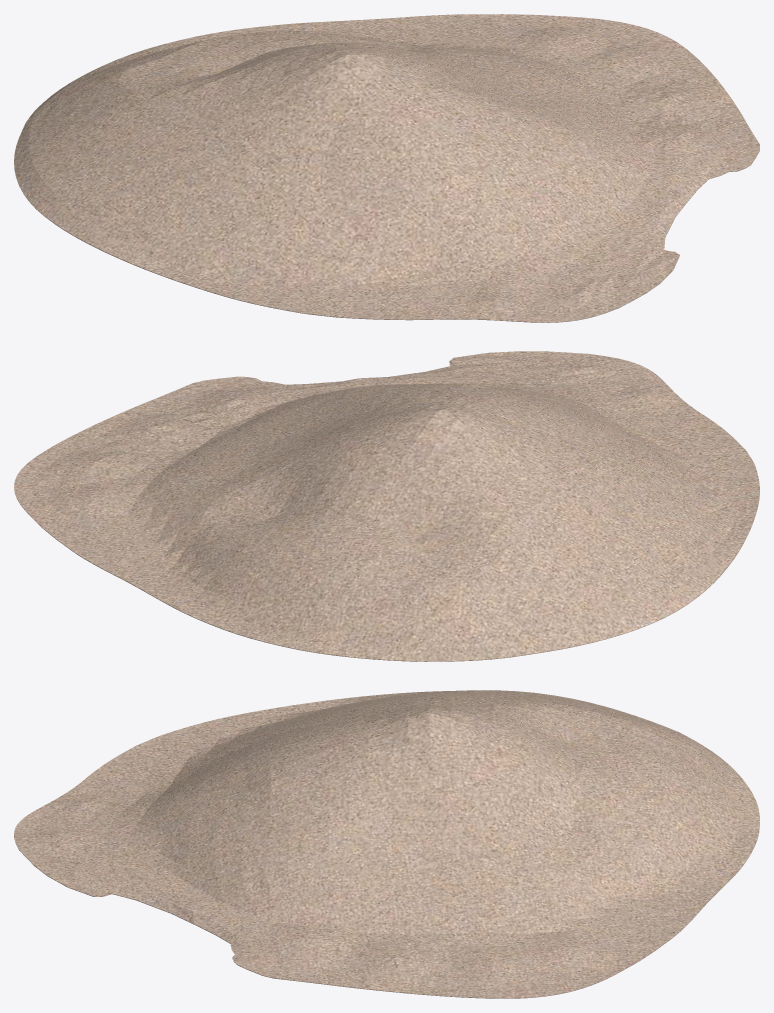
Rendered from tasDeSable.obj.
3 renders of one model, top to bottom at view 1: azimuth 30°, elevation 25°; view 2: azimuth 150°, elevation 25°; view 3: azimuth 270°, elevation 25°, orthographic. The views are drawn at different scales.
Visible parts, largest first — view 1: sable_Plane; view 2: sable_Plane; view 3: sable_Plane.
Part boxes in pixels (box(x1,y1,x2,y2)): sable_Plane: box(14, 14, 759, 322); sable_Plane: box(14, 351, 759, 661); sable_Plane: box(14, 690, 759, 998).
Size of the model in its own units: 95.08 by 15.71 by 97.51.
